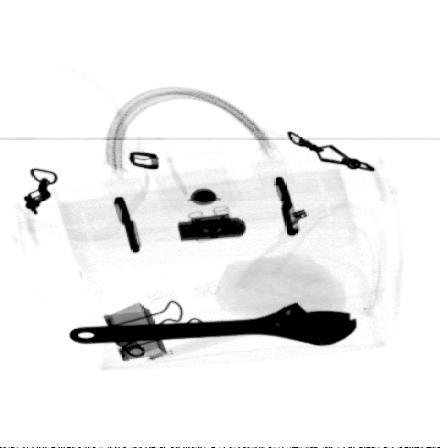Wrench: (66, 301, 359, 348)
